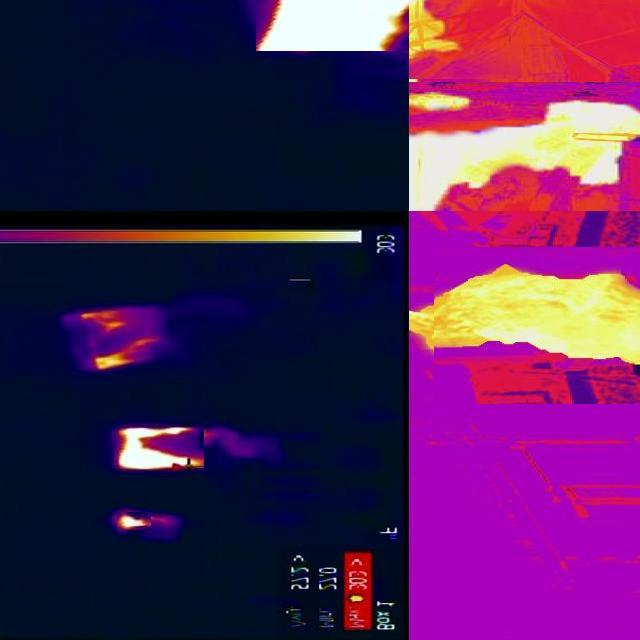fire: (410, 82, 640, 212), (409, 262, 640, 368), (257, 1, 410, 51), (115, 426, 205, 471), (410, 1, 464, 64), (91, 350, 143, 371), (118, 512, 152, 530)
